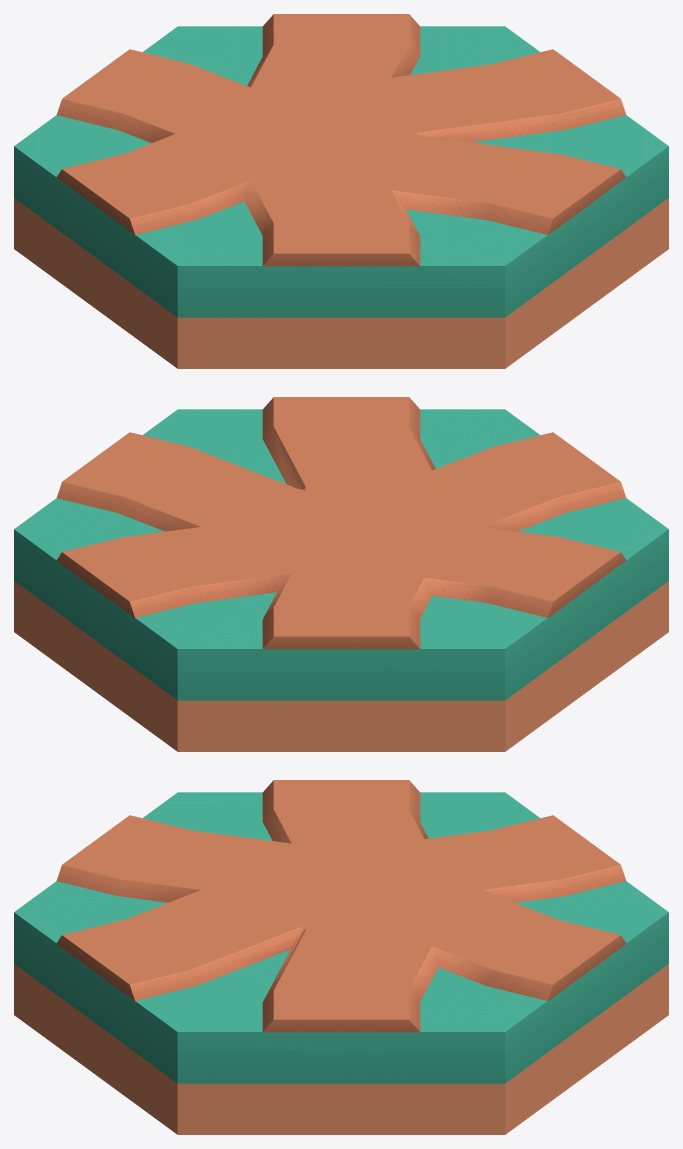
File: grass-path-crossing.glb
3 renders of one model, top to bottom at view 1: azimuth 30°, elevation 25°; view 2: azimuth 150°, elevation 25°; view 3: azimuth 270°, elevation 25°, orthographic.
Visible parts, largest first — view 1: grass, path-crossing; view 2: grass, path-crossing; view 3: grass, path-crossing.
Boxes of the visible parts, box(x1,y1,x2,y2) form: grass: box(14, 26, 668, 368); path-crossing: box(56, 14, 626, 266); grass: box(14, 409, 668, 751); path-crossing: box(56, 397, 626, 649); grass: box(14, 792, 668, 1134); path-crossing: box(56, 780, 626, 1032).
Size of the model in its own units: 1 by 0.224 by 1.15.
1 material, 1 textured.
